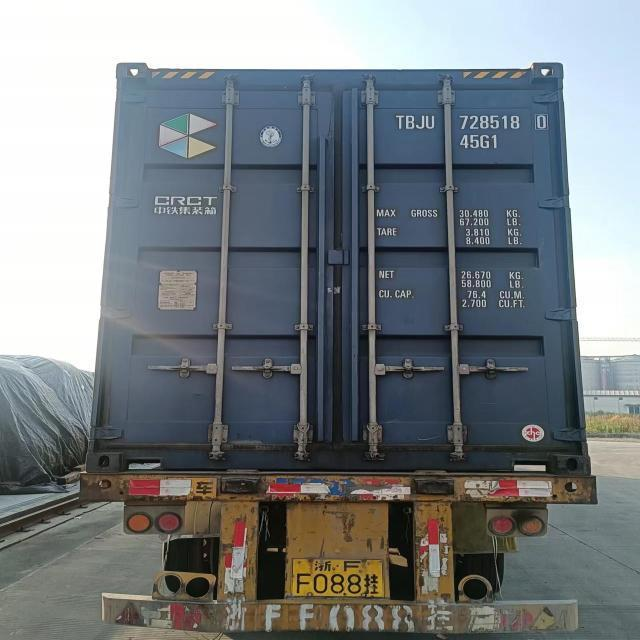ISO: (461, 134, 498, 150)
container_number: (403, 114, 551, 132)
